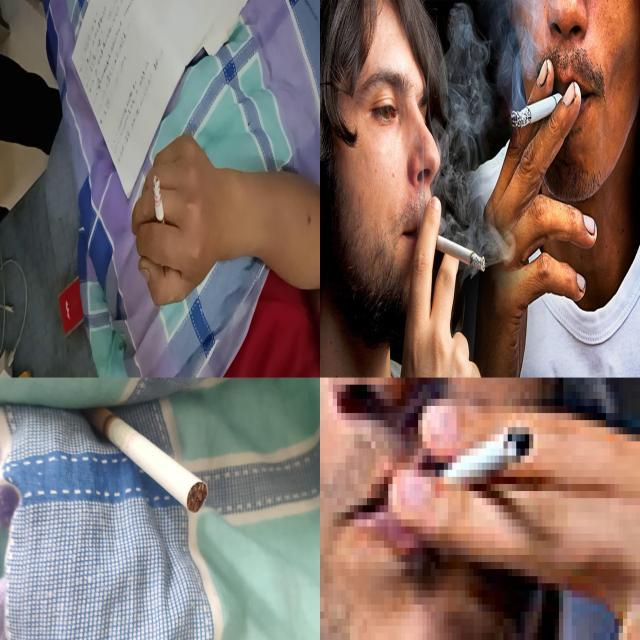smoke: (81, 404, 211, 514), (435, 420, 538, 470), (419, 227, 486, 274), (512, 92, 564, 129), (152, 174, 168, 237)
